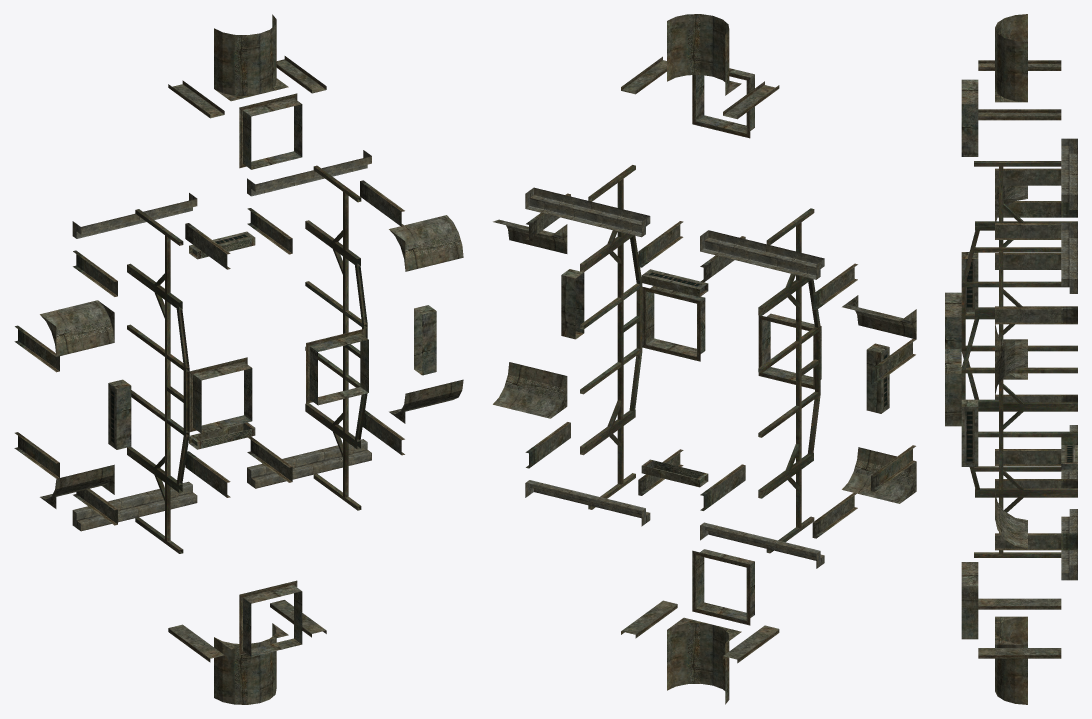
File: tdr_d_room_b.obj
The picture shows the model from 3 angles, left to right: view 1: azimuth 30°, elevation 25°; view 2: azimuth 150°, elevation 25°; view 3: azimuth 270°, elevation 25°; orthographic projection.
Visible parts, largest first — view 1: Arches.001_Cylinder.000, Cube.009_Cube.033, Cube.010_Cube.038, Pillars_(Wall)_Cube.001, Stairs_Cube.011, Pillars_(Wall).001_Cube.023, Window.001_Cube.031, Window_Cube.014, Cube.012_Cube.007, Cube.026_Cube.015; view 2: Arches.001_Cylinder.000, Cube.009_Cube.033, Stairs_Cube.011, Cube.010_Cube.038, Pillars_(Wall)_Cube.001, Pillars_(Wall).001_Cube.023, Window_Cube.014, Window.001_Cube.031, Cube.012_Cube.007, Cube.026_Cube.015; view 3: Cube.009_Cube.033, Pillars_(Wall)_Cube.001, Arches.001_Cylinder.000, Cube.010_Cube.038, Pillars_(Wall).001_Cube.023, Stairs_Cube.011, Window_Cube.014, Window.001_Cube.031, Cube.012_Cube.007.
Boxes of the visible parts, x1=… form: Arches.001_Cylinder.000: x1=40, y1=14, x2=463, y2=704; Cube.009_Cube.033: x1=127, y1=165, x2=367, y2=553; Cube.010_Cube.038: x1=189, y1=93, x2=368, y2=656; Pillars_(Wall)_Cube.001: x1=14, y1=180, x2=404, y2=525; Stairs_Cube.011: x1=72, y1=150, x2=371, y2=531; Pillars_(Wall).001_Cube.023: x1=168, y1=56, x2=326, y2=662; Window.001_Cube.031: x1=108, y1=379, x2=131, y2=449; Window_Cube.014: x1=414, y1=305, x2=436, y2=375; Cube.012_Cube.007: x1=189, y1=422, x2=255, y2=449; Cube.026_Cube.015: x1=189, y1=231, x2=255, y2=259; Arches.001_Cylinder.000: x1=493, y1=14, x2=916, y2=704; Cube.009_Cube.033: x1=580, y1=165, x2=820, y2=553; Stairs_Cube.011: x1=525, y1=187, x2=824, y2=568; Cube.010_Cube.038: x1=642, y1=68, x2=821, y2=625; Pillars_(Wall)_Cube.001: x1=525, y1=193, x2=916, y2=538; Pillars_(Wall).001_Cube.023: x1=621, y1=56, x2=779, y2=663; Window_Cube.014: x1=561, y1=269, x2=584, y2=339; Window.001_Cube.031: x1=866, y1=343, x2=889, y2=413; Cube.012_Cube.007: x1=641, y1=459, x2=708, y2=487; Cube.026_Cube.015: x1=641, y1=269, x2=708, y2=296; Cube.009_Cube.033: x1=961, y1=161, x2=1077, y2=557; Pillars_(Wall)_Cube.001: x1=995, y1=168, x2=1077, y2=550; Arches.001_Cylinder.000: x1=995, y1=14, x2=1027, y2=704; Cube.010_Cube.038: x1=945, y1=79, x2=978, y2=639; Pillars_(Wall).001_Cube.023: x1=978, y1=60, x2=1061, y2=658; Stairs_Cube.011: x1=1061, y1=138, x2=1077, y2=580; Window_Cube.014: x1=961, y1=399, x2=978, y2=466; Window.001_Cube.031: x1=961, y1=252, x2=978, y2=313; Cube.012_Cube.007: x1=1061, y1=437, x2=1077, y2=471.
Bounding box in the file's own units: 7168 × 11264 × 2048.
10 materials, 10 textured.
